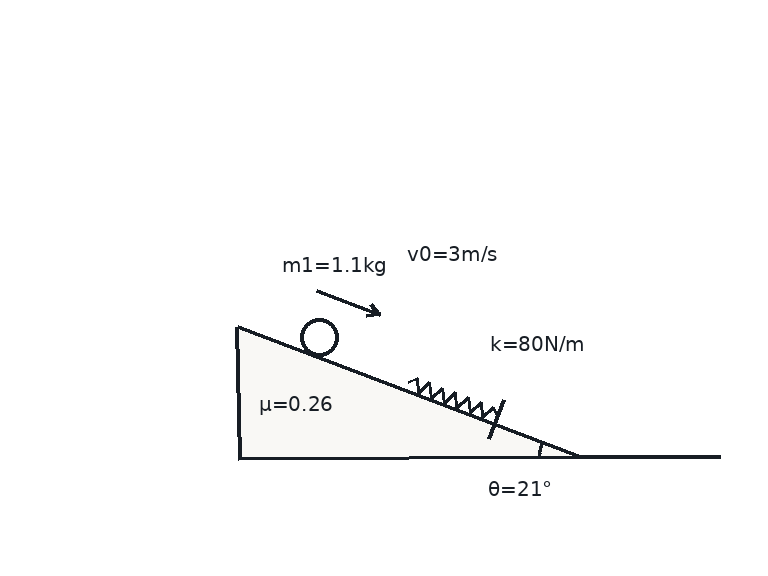ball: (298, 316, 340, 358)
ramp: (236, 324, 581, 459)
spring: (406, 376, 499, 420)
